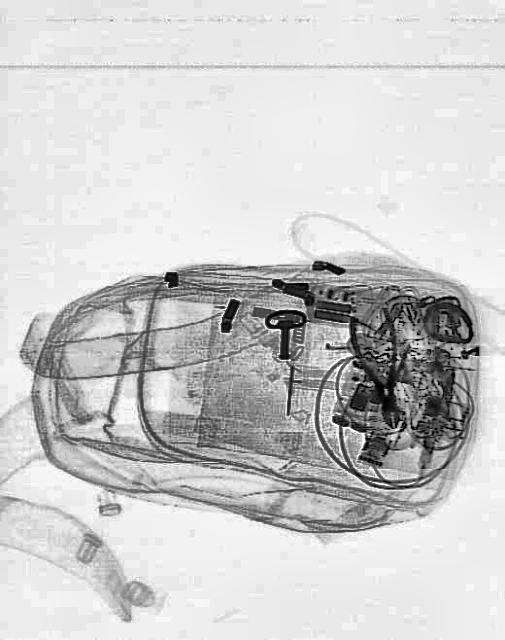Pliers: (344, 303, 418, 433)
